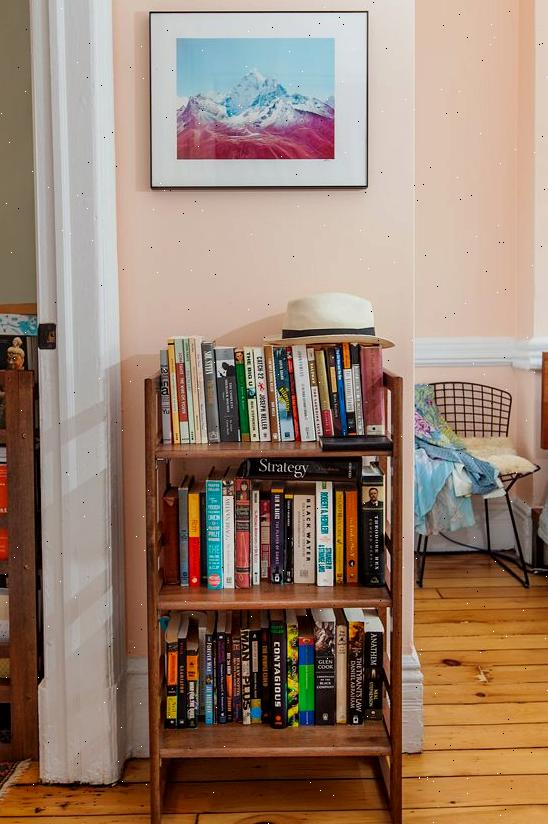book: (214, 346, 240, 443), (291, 344, 316, 441), (292, 484, 316, 585), (268, 610, 287, 728), (272, 345, 294, 441), (297, 610, 315, 727), (315, 478, 334, 586), (205, 476, 223, 590), (314, 349, 336, 438), (234, 476, 251, 589), (251, 346, 271, 441), (202, 343, 221, 442), (191, 338, 209, 442), (174, 338, 191, 443), (222, 475, 236, 588), (166, 340, 181, 443), (187, 477, 201, 587)
